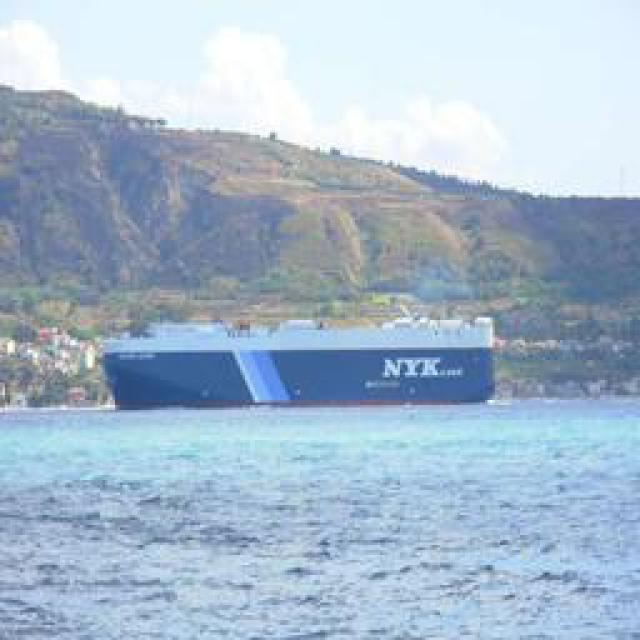Ship: (100, 324, 500, 414)
